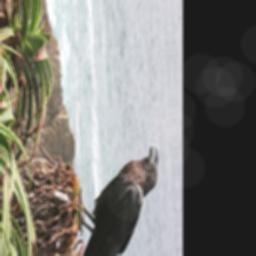Crow: (64, 137, 166, 256)
